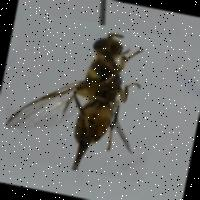Oriental-fruit-fly: (0, 9, 169, 183)
